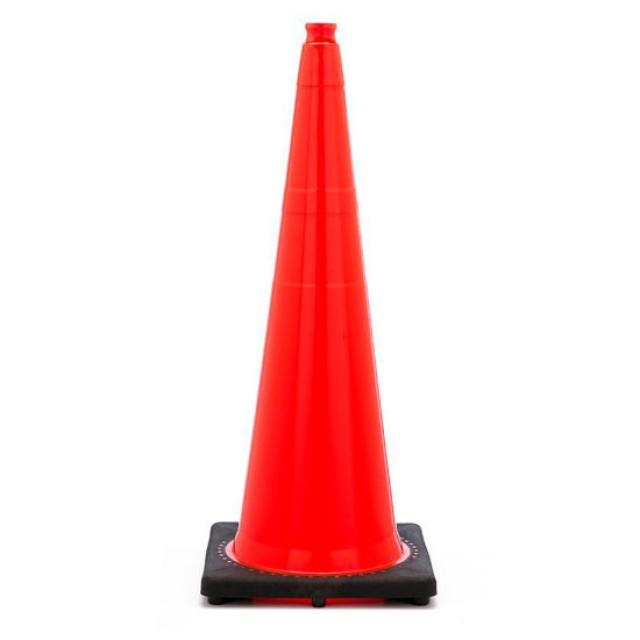traffic cone: (195, 16, 454, 626)
